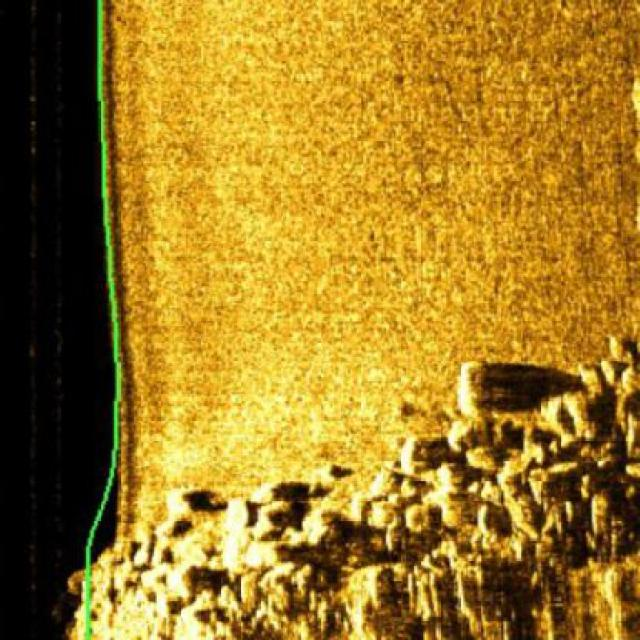bedrock group: (70, 332, 636, 638)
